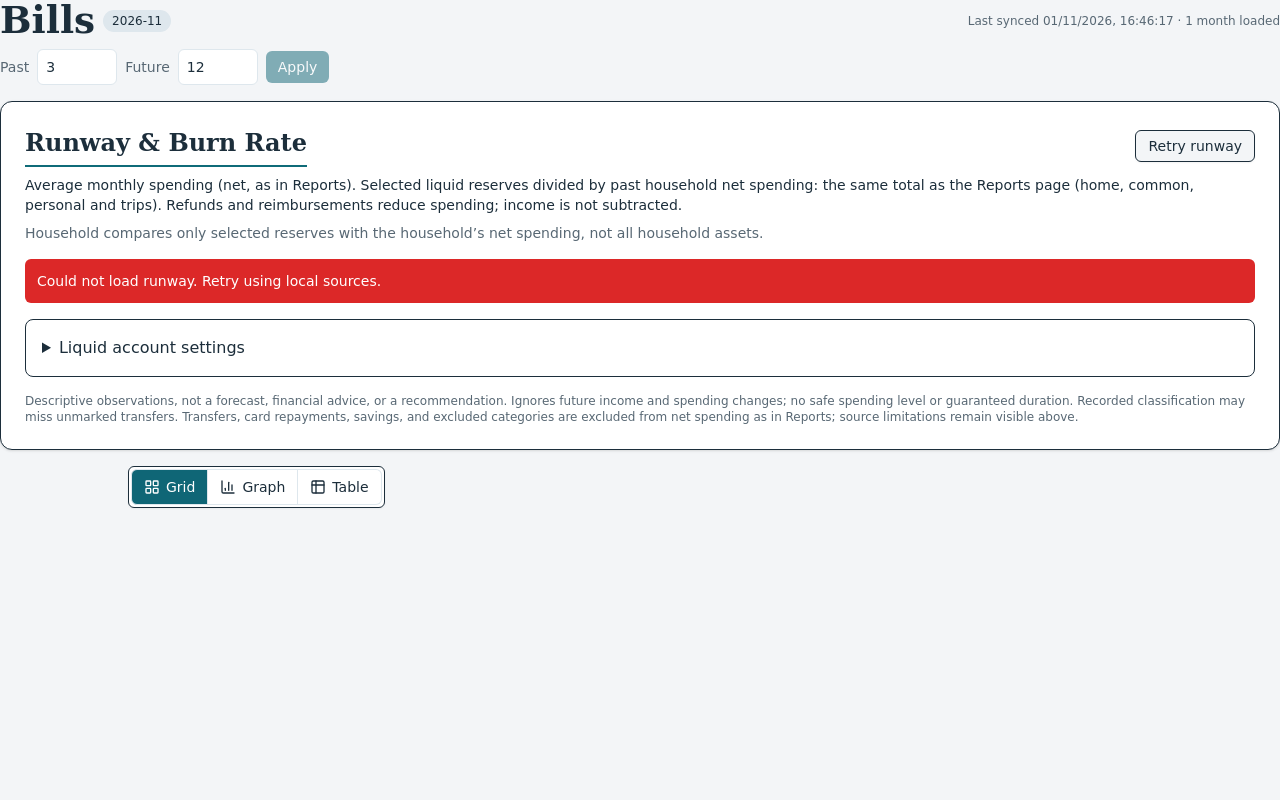
Test: BillsPage › keeps legacy Bills usable during runway-only failure and retry
The width and height of the screenshot is (1280, 800).
Expected: the radio button "Grid" is shown, [131, 469, 208, 505]
What coordinates should you click on to do the following:
click the button "Retry runway"
I would click on:
 (1195, 146)
Its box is [1136, 130, 1255, 162].
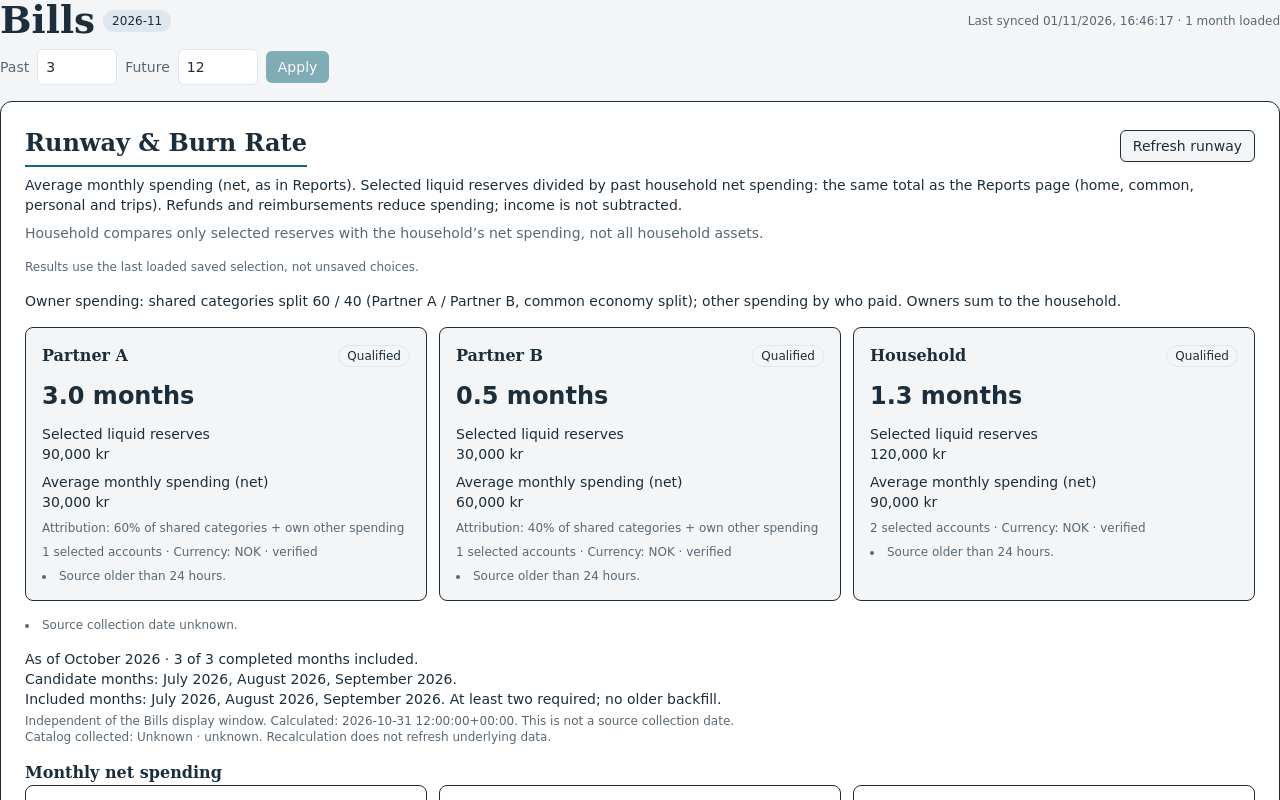
Expected: the text "1.3 months" is shown, [870, 382, 1022, 410]
